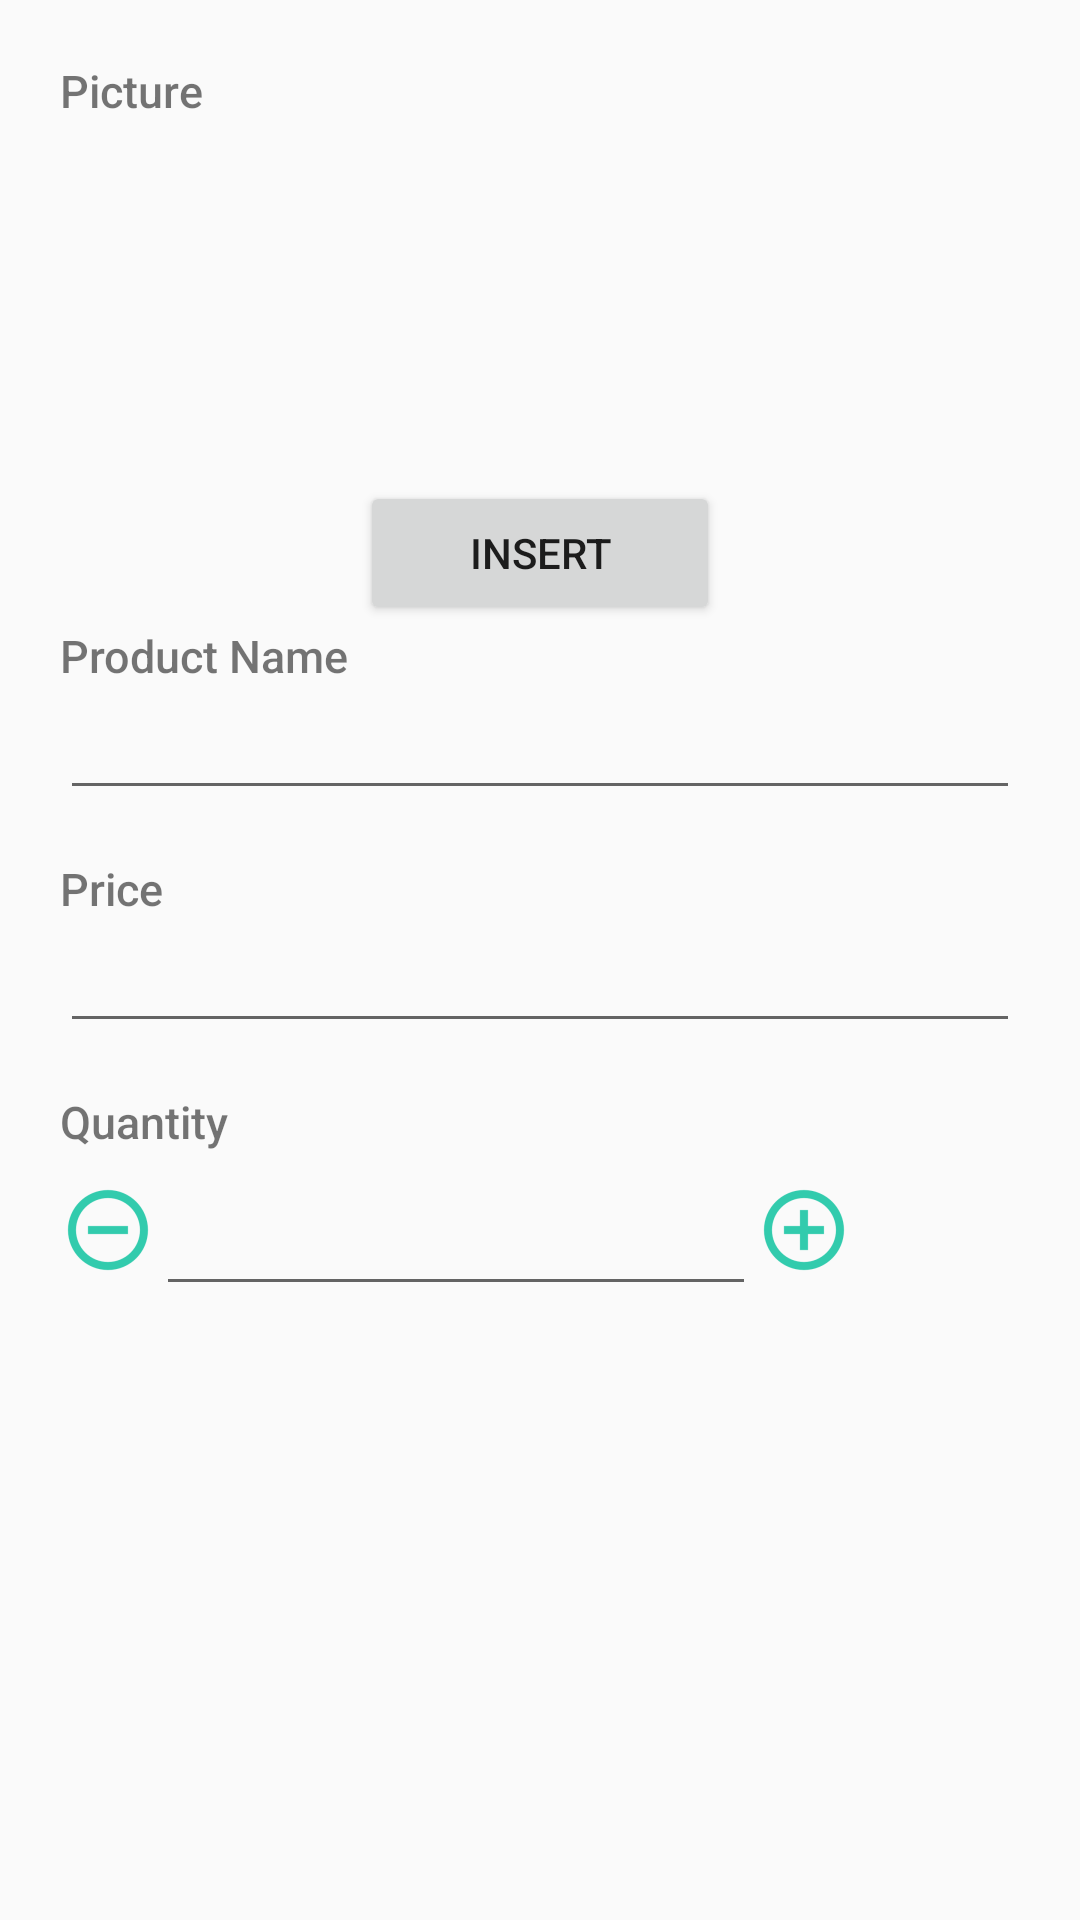

Locate icon controls on the screen. Image size 1080px×1920px, boxes as [x1, y1, x2, y2].
add: [764, 1190, 844, 1270]
remove: [68, 1190, 148, 1270]
